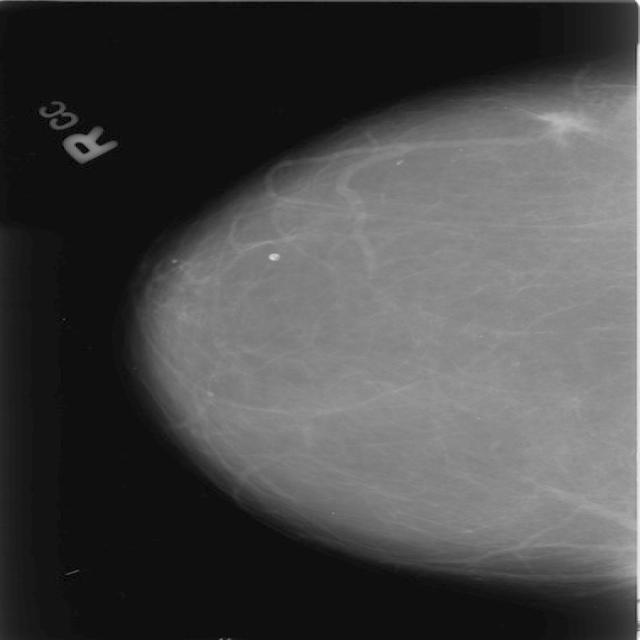tumour: (530, 110, 596, 137)
